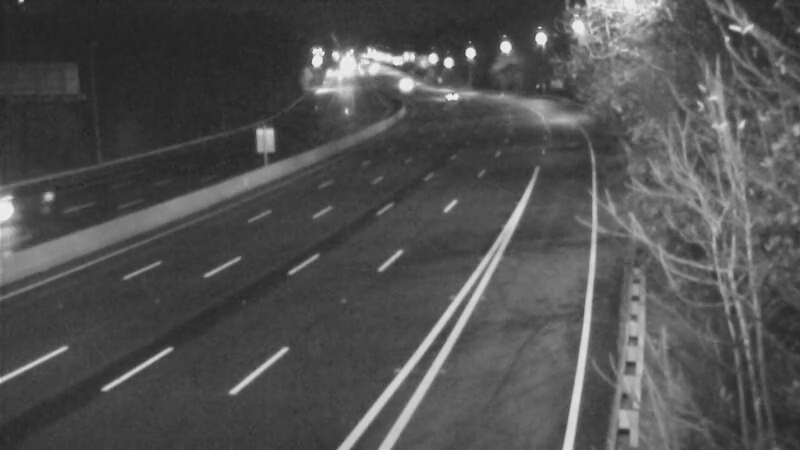vehicle: (1, 167, 66, 247), (373, 56, 423, 106), (424, 70, 474, 120)
